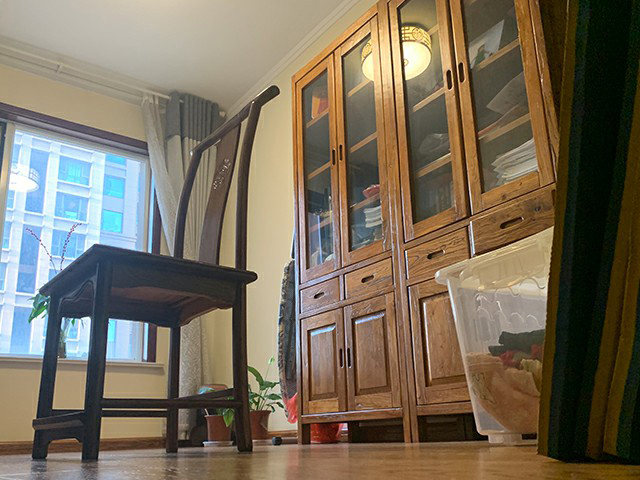cabinet: (298, 218, 464, 443)
curtain: (141, 90, 227, 442)
stool: (32, 84, 281, 464)
